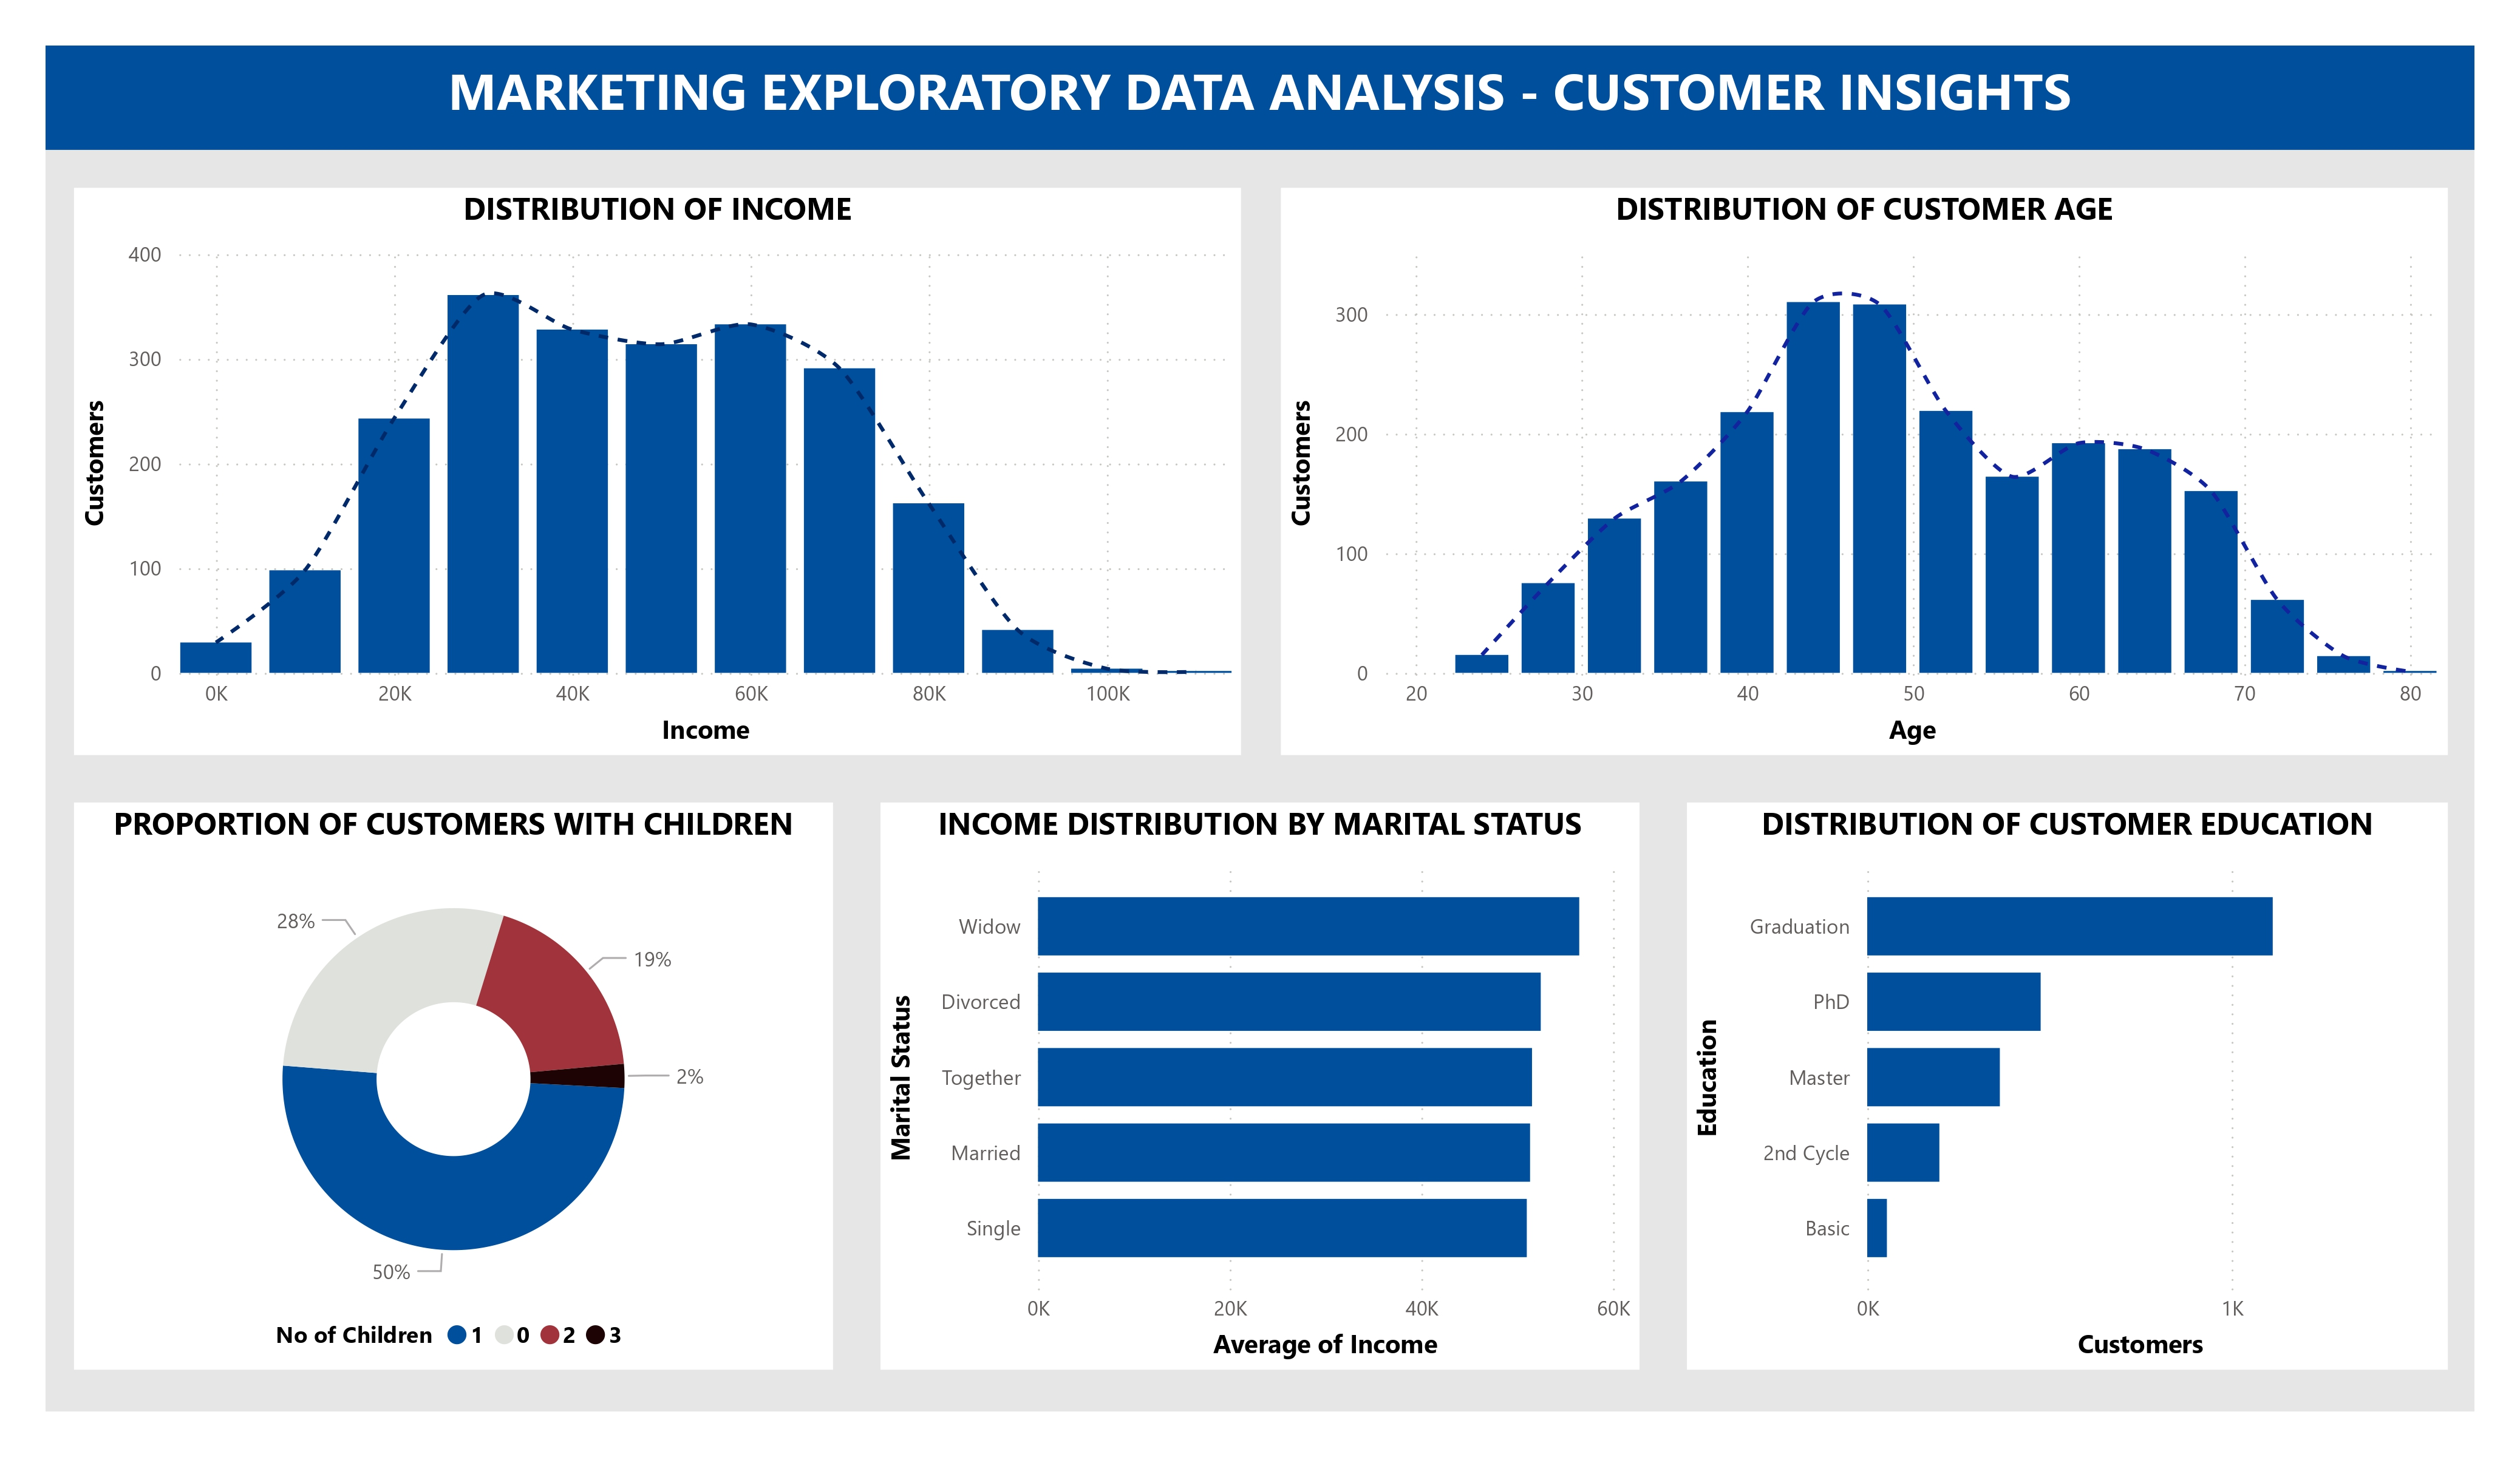

What the dashboard file says about the page in this screenshot:
{"tool":"powerbi","page":{"name":"Customer Insights","canvas":[1280,720],"ordinal":0},"visuals":[{"type":"lineClusteredColumnComboChart","title":"DISTRIBUTION OF INCOME","fields":{"Y":["CountNonNull(marketing_stats.Index)"],"Category":["marketing_stats.Income (bins)"],"Y2":["CountNonNull(marketing_stats.Income (bins))"]},"box":[14.7,74.5,614.9,299.7],"z":0},{"type":"lineClusteredColumnComboChart","title":"DISTRIBUTION OF CUSTOMER AGE","fields":{"Y":["CountNonNull(marketing_stats.Index)"],"Category":["marketing_stats.Customer_Age (bins)"],"Y2":["CountNonNull(marketing_stats.Customer_Age (bins))"]},"box":[650.9,74.5,614.9,299.7],"z":1000},{"type":"donutChart","title":"PROPORTION OF CUSTOMERS WITH CHILDREN","fields":{"Y":["CountNonNull(marketing_stats.Index)"],"Category":["marketing_stats.Total_Children"]},"box":[14.7,398.7,400,299.7],"z":2000},{"type":"clusteredBarChart","title":"INCOME DISTRIBUTION BY MARITAL STATUS","fields":{"Category":["marketing_stats.Marital_Status"],"Y":["Avg(marketing_stats.Income)"]},"box":[439.7,398.7,400.4,299.7],"z":3000},{"type":"clusteredBarChart","title":"DISTRIBUTION OF CUSTOMER EDUCATION","fields":{"Category":["marketing_stats.Education"],"Y":["CountNonNull(marketing_stats.Index)"]},"box":[865.4,398.7,400.4,299.7],"z":4000},{"type":"textbox","box":[0,0,1279.7,54.9],"z":5000}]}

Visuals, with their boxes on the page's 1280x720 design canvas (x1, y1, x2, y2). These are canvas units, not pixel positions in the 2520x1457 screenshot, which may show the page scaled, cropped or inside an application window:
"DISTRIBUTION OF INCOME" lineClusteredColumnComboChart: {"left": 15, "top": 74, "right": 630, "bottom": 374}
"DISTRIBUTION OF CUSTOMER AGE" lineClusteredColumnComboChart: {"left": 651, "top": 74, "right": 1266, "bottom": 374}
"PROPORTION OF CUSTOMERS WITH CHILDREN" donutChart: {"left": 15, "top": 399, "right": 415, "bottom": 698}
"INCOME DISTRIBUTION BY MARITAL STATUS" clusteredBarChart: {"left": 440, "top": 399, "right": 840, "bottom": 698}
"DISTRIBUTION OF CUSTOMER EDUCATION" clusteredBarChart: {"left": 865, "top": 399, "right": 1266, "bottom": 698}
textbox: {"left": 0, "top": 0, "right": 1280, "bottom": 55}
